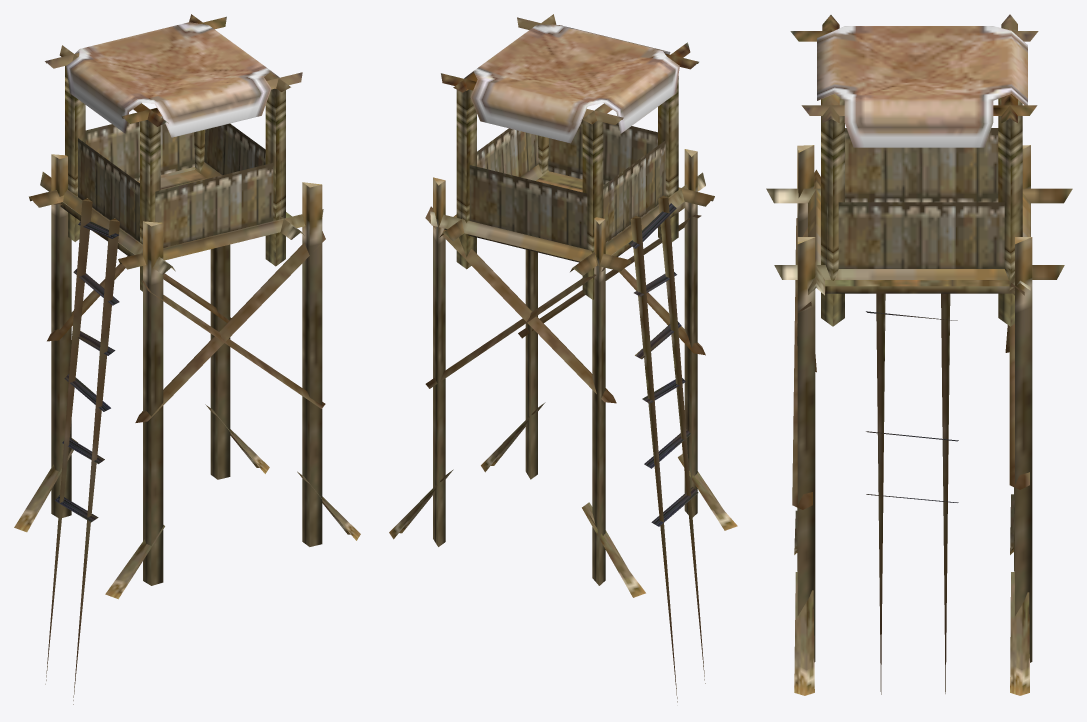
The model's file is idle.glb.
3 renders of one model, left to right at view 1: azimuth 30°, elevation 25°; view 2: azimuth 150°, elevation 25°; view 3: azimuth 270°, elevation 25°, orthographic. The views are drawn at different scales.
Parts seen in each view (by area): view 1: MeshRoot; view 2: MeshRoot; view 3: MeshRoot.
Part boxes in pixels (x1,y1,x2,y2): MeshRoot: (14,14,360,704); MeshRoot: (389,14,737,702); MeshRoot: (766,14,1072,695).
Bounding box in the file's own units: 2.71 × 6.11 × 2.38.
Materials: 2 (2 with a texture image).
